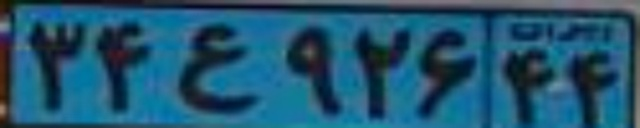2: (354, 26, 411, 119)
3: (23, 19, 89, 111)
4: (94, 21, 150, 112), (500, 45, 556, 125), (568, 50, 619, 127)
6: (417, 28, 475, 118)
9: (285, 26, 342, 115)
ain: (179, 24, 259, 112)
